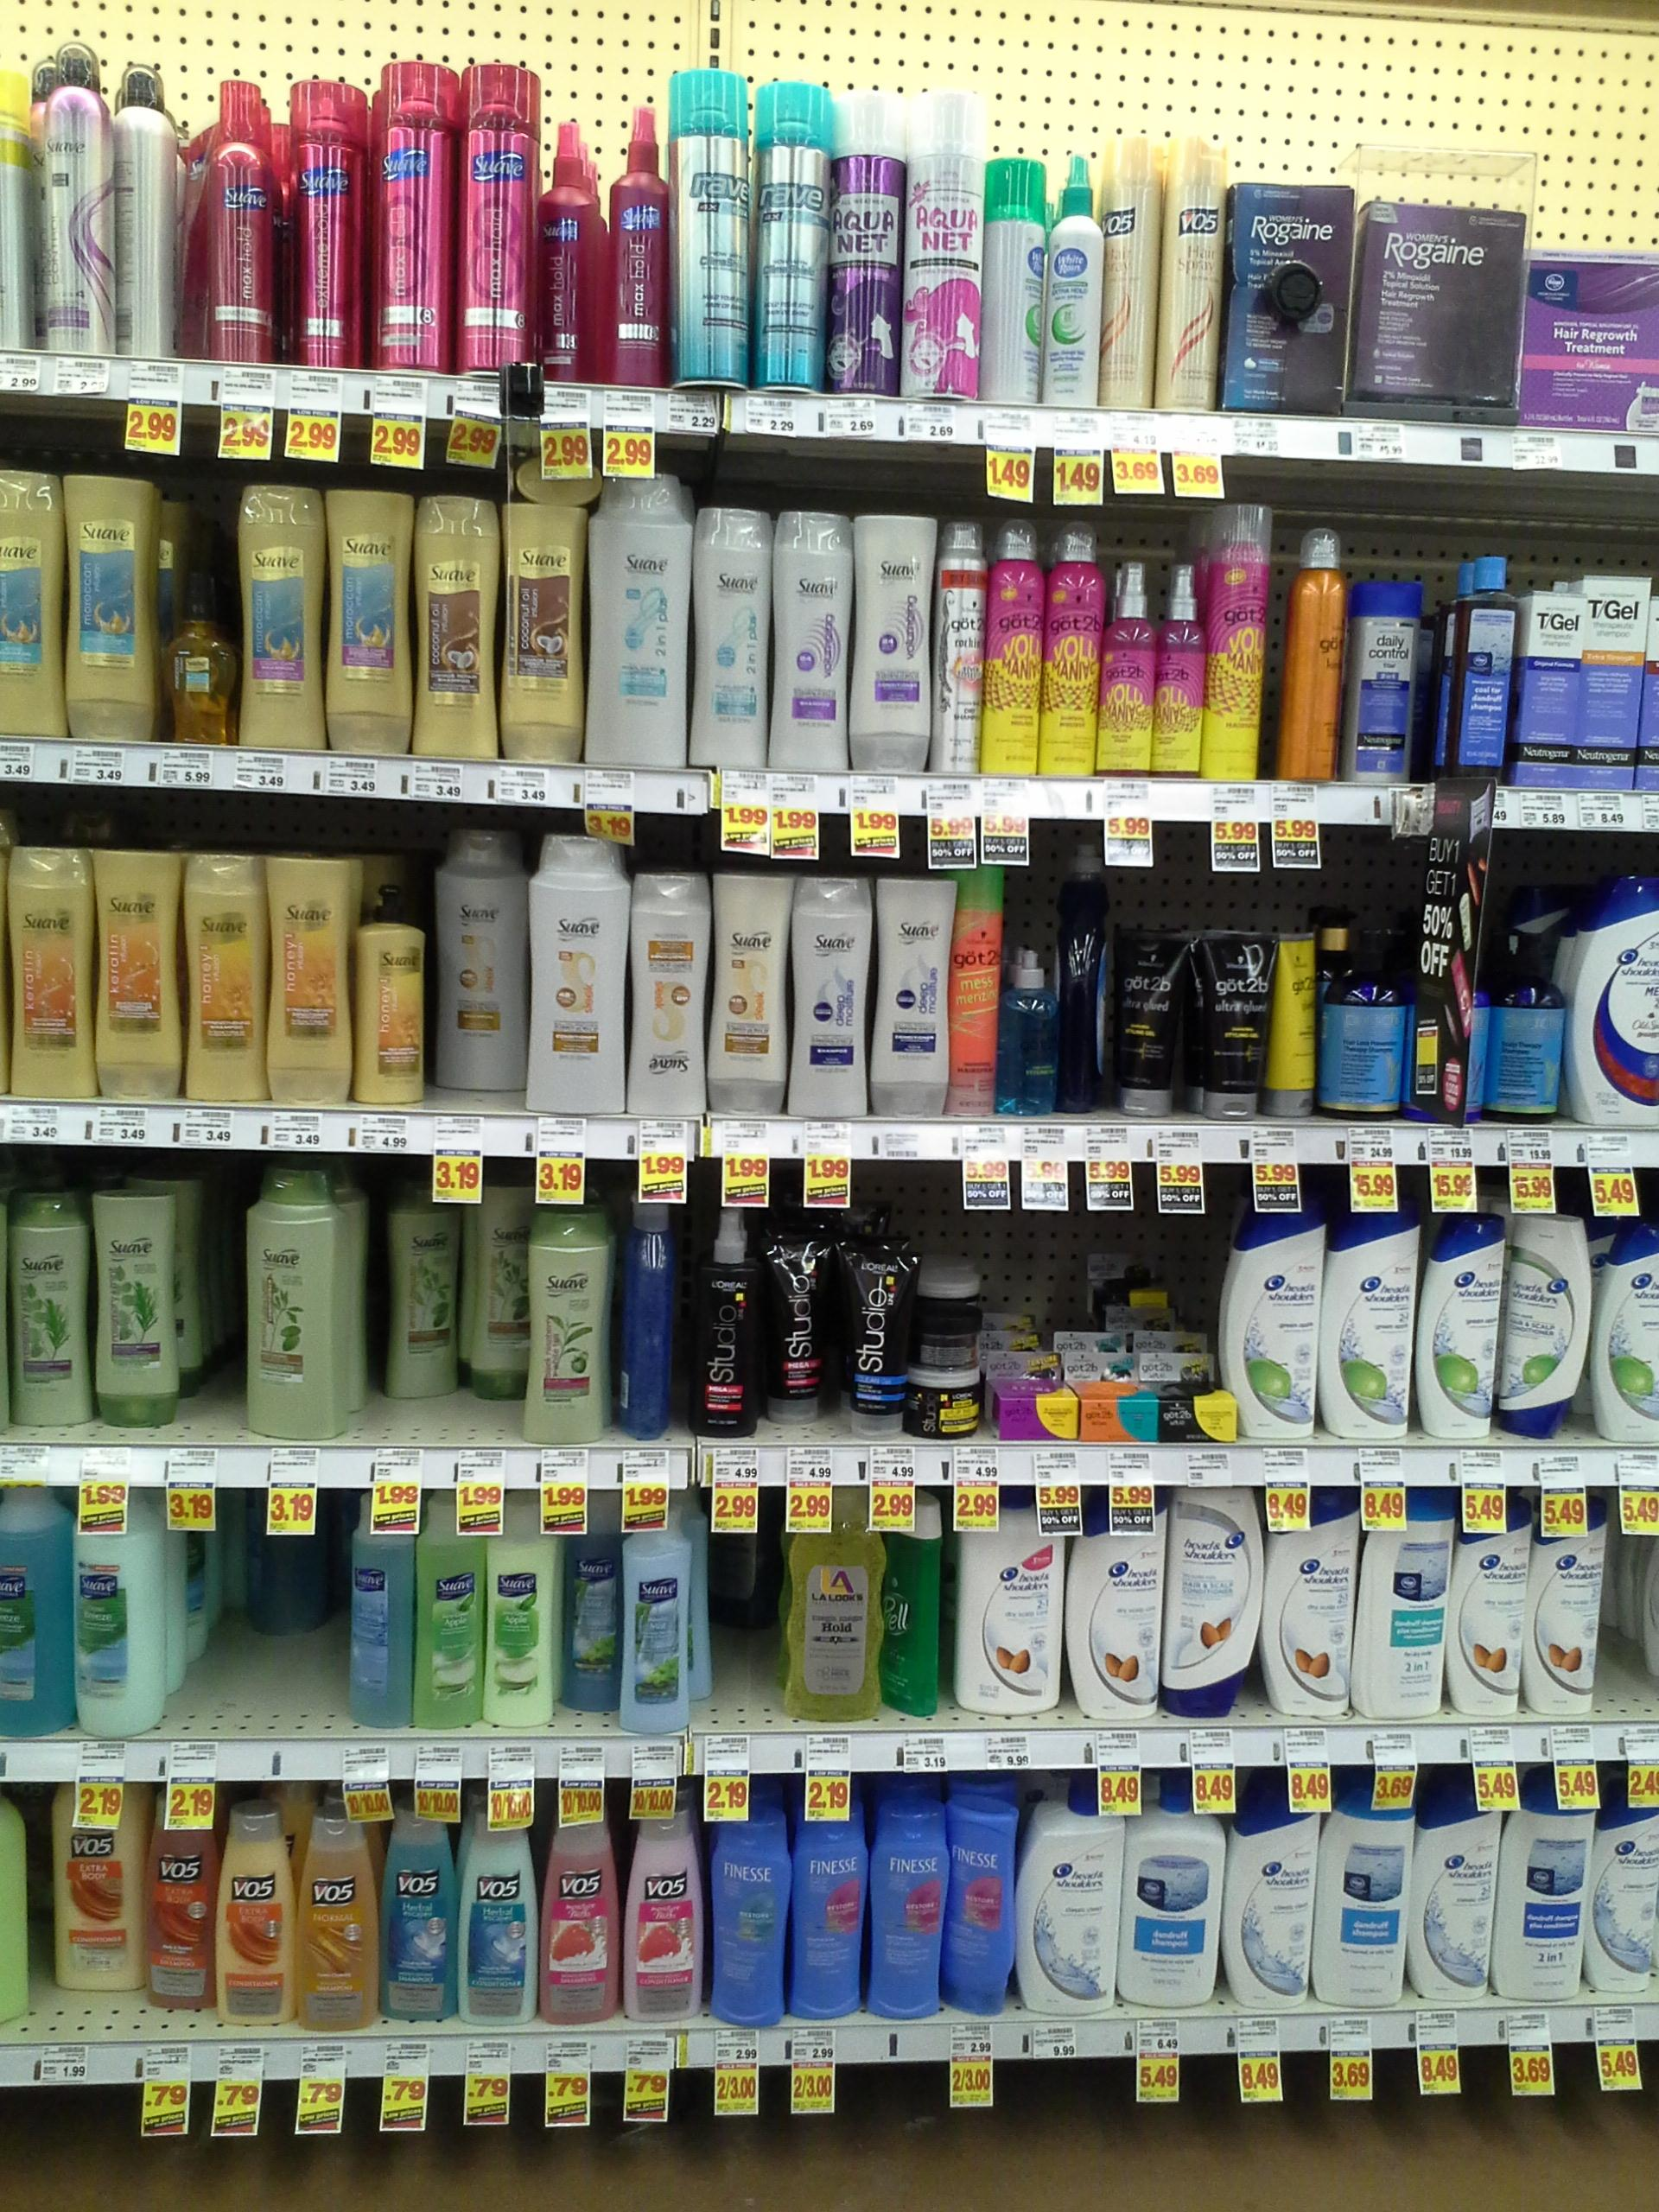misalignment: (239, 1158, 352, 1444), (1047, 843, 1115, 1115), (336, 1493, 415, 1724), (383, 1179, 464, 1397), (613, 1186, 676, 1442), (882, 1491, 948, 1716), (171, 122, 220, 348), (509, 455, 603, 505)
